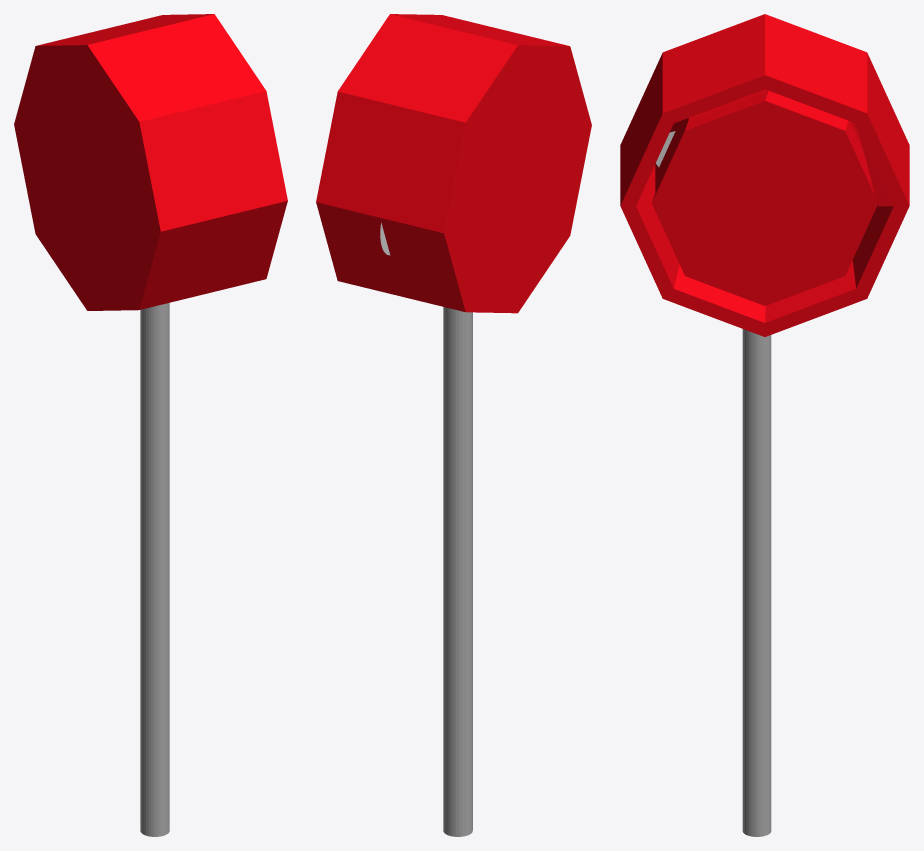
Rendered from StopSign.fbx.
3 views of the same model, side by side, from view 1: azimuth 30°, elevation 25°; view 2: azimuth 150°, elevation 25°; view 3: azimuth 270°, elevation 25° (orthographic). The views are drawn at different scales.
Parts seen in each view (by area): view 1: Cylinder.001; view 2: Cylinder.001; view 3: Cylinder.001.
Boxes of the visible parts, box(x1,y1,x2,y2) form: Cylinder.001: box(14, 14, 287, 836); Cylinder.001: box(316, 14, 591, 836); Cylinder.001: box(620, 14, 909, 836).
Bounding box in the file's own units: 10 × 60 × 20.
